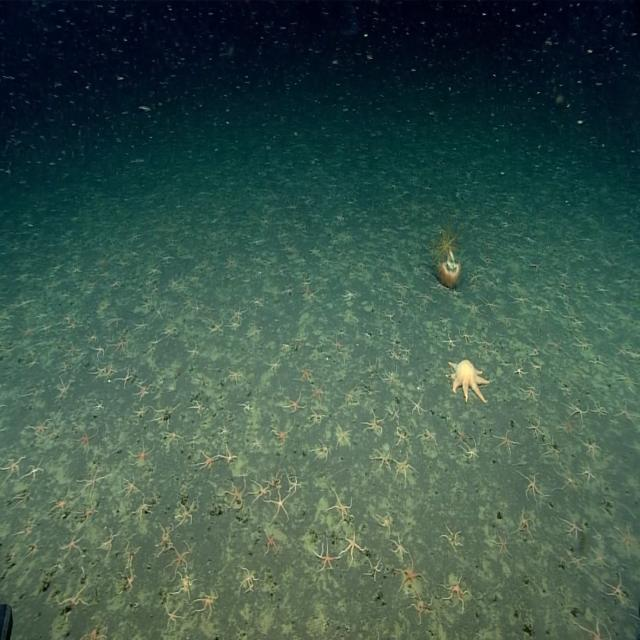brittle-stars: (443, 574, 469, 609), (78, 467, 109, 496), (399, 563, 426, 594), (168, 543, 191, 577), (411, 594, 435, 626), (519, 472, 543, 504), (314, 541, 338, 572), (576, 616, 607, 640), (266, 491, 290, 522), (342, 531, 363, 565), (329, 492, 354, 520), (222, 479, 245, 509), (493, 428, 517, 456), (58, 587, 88, 609), (197, 586, 218, 617), (613, 523, 634, 554), (614, 400, 638, 426), (75, 427, 98, 453), (560, 513, 583, 539), (556, 467, 578, 494), (605, 573, 625, 602), (130, 440, 154, 464), (565, 398, 588, 422), (238, 566, 259, 592), (61, 532, 83, 556), (394, 454, 414, 480), (151, 404, 177, 424), (156, 522, 173, 552), (442, 526, 463, 550), (517, 513, 536, 539), (135, 494, 153, 521), (24, 458, 45, 481), (174, 502, 194, 526), (165, 604, 184, 629), (372, 449, 391, 474), (52, 488, 70, 514), (364, 411, 384, 434), (391, 535, 410, 558), (492, 532, 511, 555), (366, 555, 384, 579), (334, 424, 352, 448), (591, 547, 611, 568), (313, 439, 333, 460), (195, 450, 216, 470), (121, 473, 139, 496), (177, 572, 194, 596), (250, 480, 270, 500), (2, 458, 20, 480), (80, 500, 98, 522), (164, 427, 182, 449), (272, 423, 290, 445), (284, 393, 304, 412), (580, 464, 598, 484), (618, 370, 638, 388), (522, 383, 540, 403), (218, 444, 236, 464), (31, 419, 50, 437), (309, 383, 327, 402), (567, 554, 587, 571), (380, 368, 400, 385), (123, 569, 137, 593), (560, 416, 576, 437), (286, 472, 301, 494), (375, 511, 392, 530), (464, 440, 480, 460), (265, 530, 277, 556), (57, 376, 71, 398), (526, 418, 543, 436), (590, 400, 607, 418), (295, 364, 312, 382), (410, 396, 426, 414), (112, 338, 128, 355), (231, 304, 248, 320), (467, 298, 482, 316), (583, 440, 599, 456), (478, 335, 494, 351), (265, 358, 281, 374), (460, 326, 474, 344), (188, 400, 206, 414), (387, 403, 400, 422), (119, 368, 132, 387), (228, 369, 244, 384), (107, 312, 122, 328), (154, 302, 166, 322), (419, 290, 435, 305), (510, 293, 527, 307), (424, 428, 438, 444), (136, 384, 150, 400), (227, 317, 241, 333), (211, 319, 224, 335), (482, 298, 499, 310), (134, 318, 148, 332), (22, 324, 36, 338), (393, 280, 408, 293), (134, 404, 147, 419), (92, 344, 105, 359), (444, 331, 456, 347), (513, 364, 526, 378), (162, 326, 178, 337), (188, 342, 198, 359), (456, 428, 468, 442), (343, 290, 357, 302), (169, 276, 181, 289), (148, 264, 161, 275), (93, 401, 104, 412), (510, 279, 520, 291), (390, 347, 399, 360), (205, 303, 215, 313), (402, 346, 411, 355), (402, 354, 408, 365)
